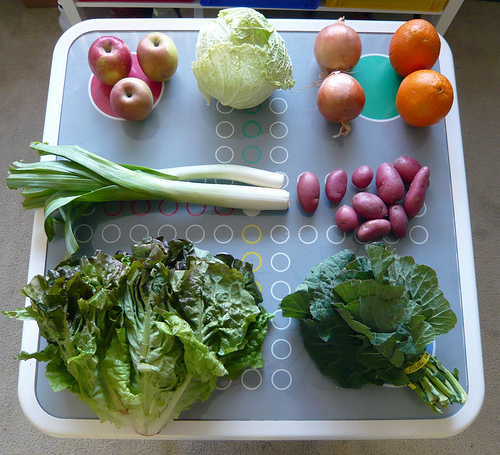cabbage: (4, 233, 275, 441), (190, 5, 296, 111)
